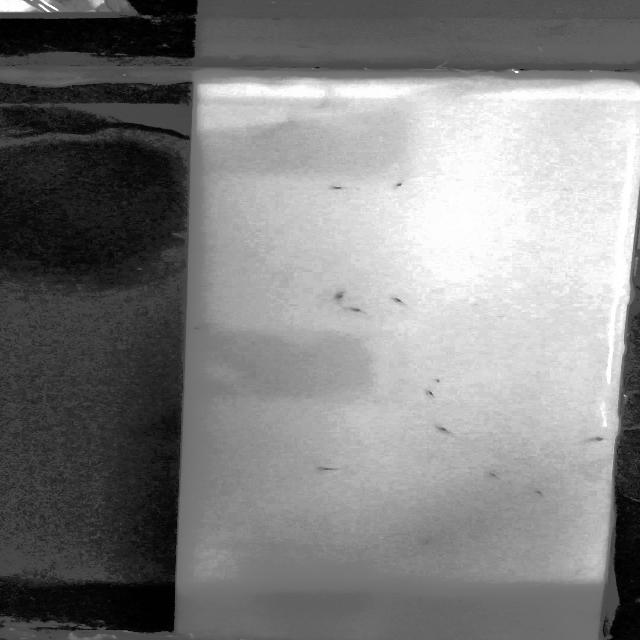shrimp: (384, 296, 413, 310), (430, 422, 458, 436), (183, 324, 217, 335), (586, 435, 614, 448), (408, 536, 442, 546), (329, 289, 354, 302), (390, 176, 410, 191), (340, 304, 372, 313), (422, 386, 439, 398), (484, 472, 506, 480), (328, 182, 348, 190), (314, 467, 346, 472), (533, 486, 549, 494)
